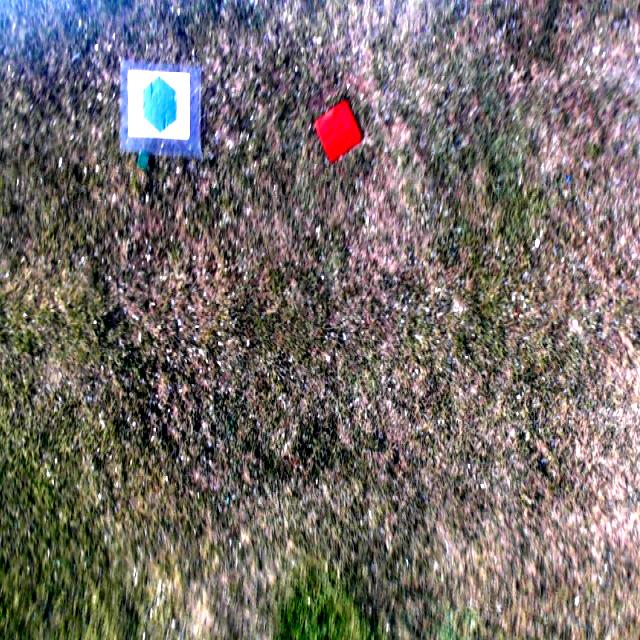blue_hexagon: (144, 75, 178, 133)
red_square: (314, 101, 360, 160)
